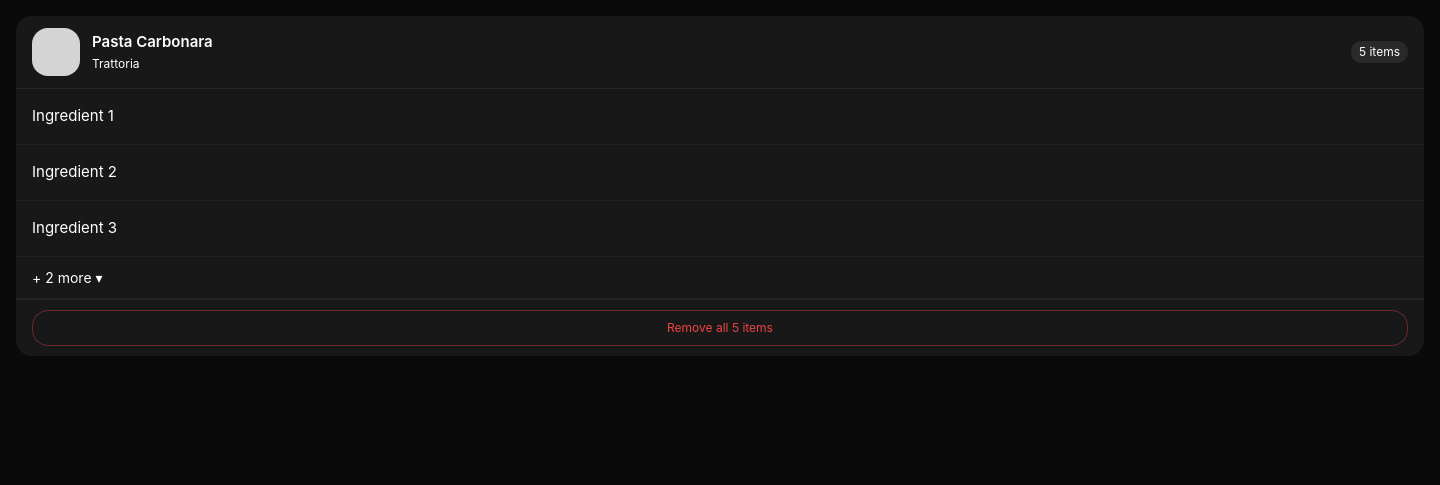
Test case: GroceryRecipeView › expanding disclosure shows all ingredients
Step 1. Click the button with aria-label "Show 2 more ingredients" → (78, 278), box [16,257,1424,299]
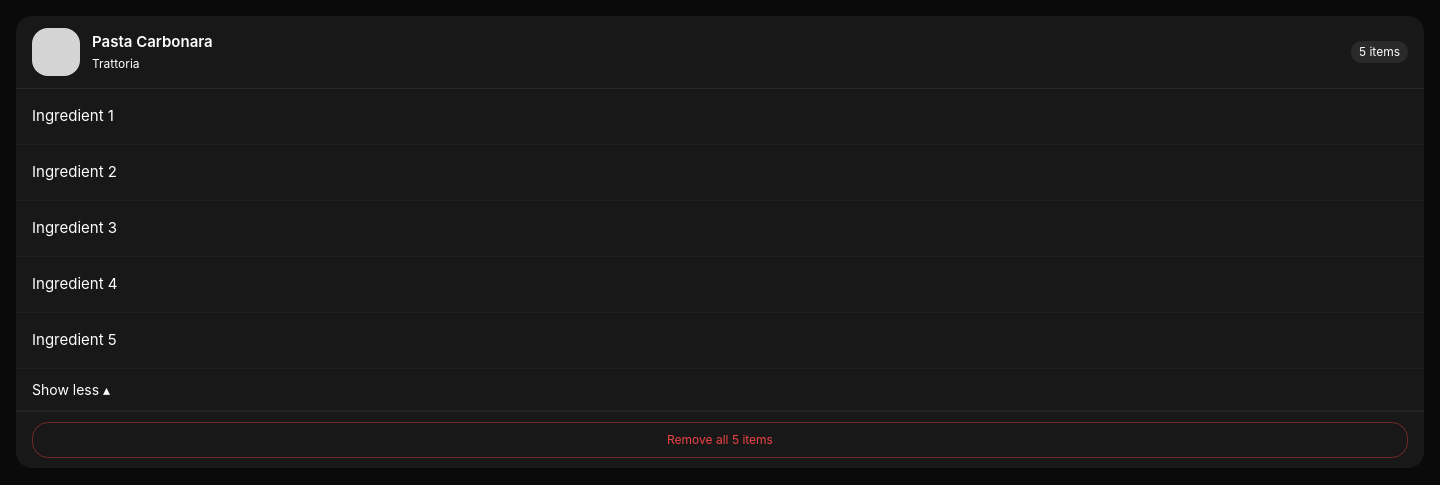
Expected: the text "Ingredient 4" is shown, [32,273,118,296]
Expected: the text "Ingredient 5" is shown, [32,329,117,352]
